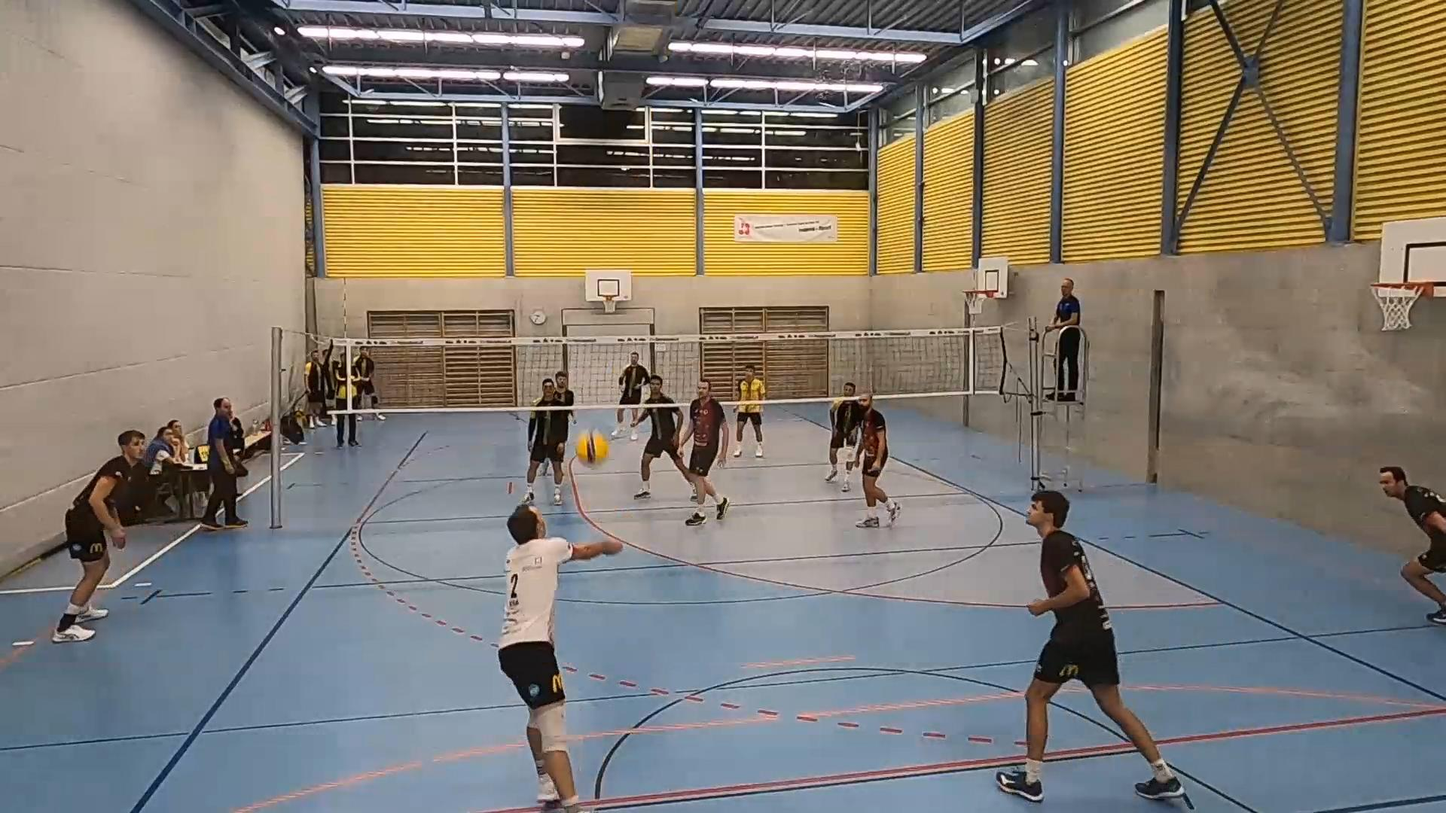ricezione: (483, 498, 633, 812)
